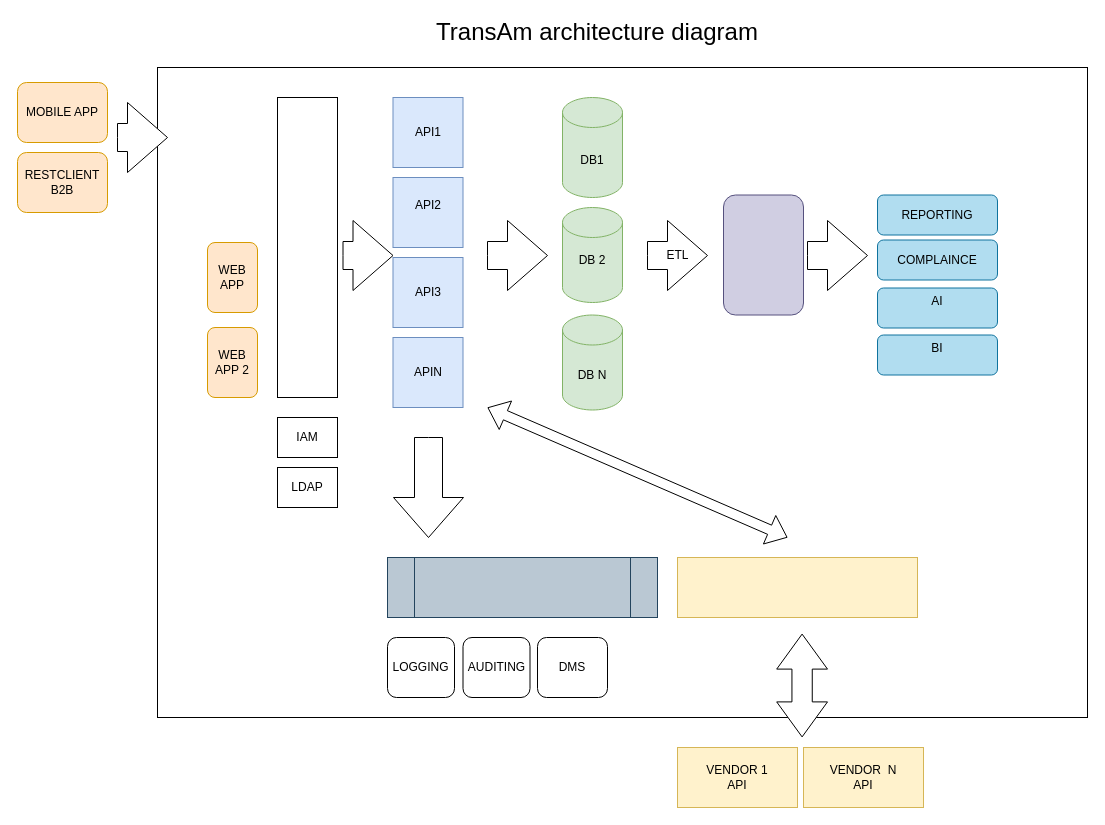
Some shapes in this 1105 by 825 pixel diagram are drawn without their labels. Here are the shapes that lost their labels. From the top down, the box of each, then its label:
(276, 96, 338, 398): APIM (SEC CACHING)
(722, 194, 804, 315): DWH
(386, 556, 658, 618): ASYNC QUEUES
(676, 556, 918, 618): VENDOR ADAPTER API
